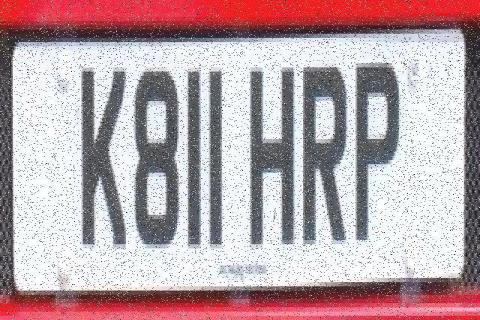LicensePlate: (5, 24, 474, 295)
